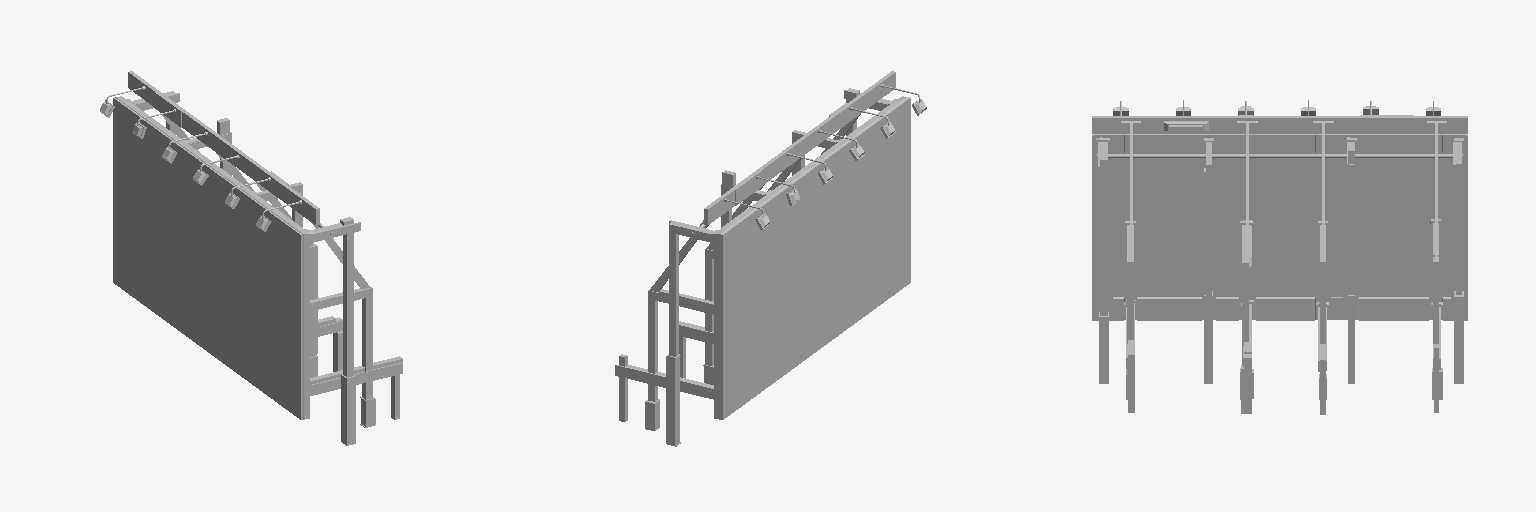
Rendered from anuncio.obj.
3 renders of one model, left to right at view 1: azimuth 30°, elevation 25°; view 2: azimuth 150°, elevation 25°; view 3: azimuth 270°, elevation 25°, orthographic.
Visible parts, largest first — view 1: Ecleposs_HD_bill_board_for_Cinema4D; view 2: Ecleposs_HD_bill_board_for_Cinema4D; view 3: Ecleposs_HD_bill_board_for_Cinema4D.
Part boxes in pixels (left/top/right/bottom): Ecleposs_HD_bill_board_for_Cinema4D: left=100, top=71, right=402, bottom=445; Ecleposs_HD_bill_board_for_Cinema4D: left=615, top=71, right=926, bottom=446; Ecleposs_HD_bill_board_for_Cinema4D: left=1092, top=100, right=1467, bottom=414.
Bounding box in the file's own units: 16.84 × 25.71 × 35.48.